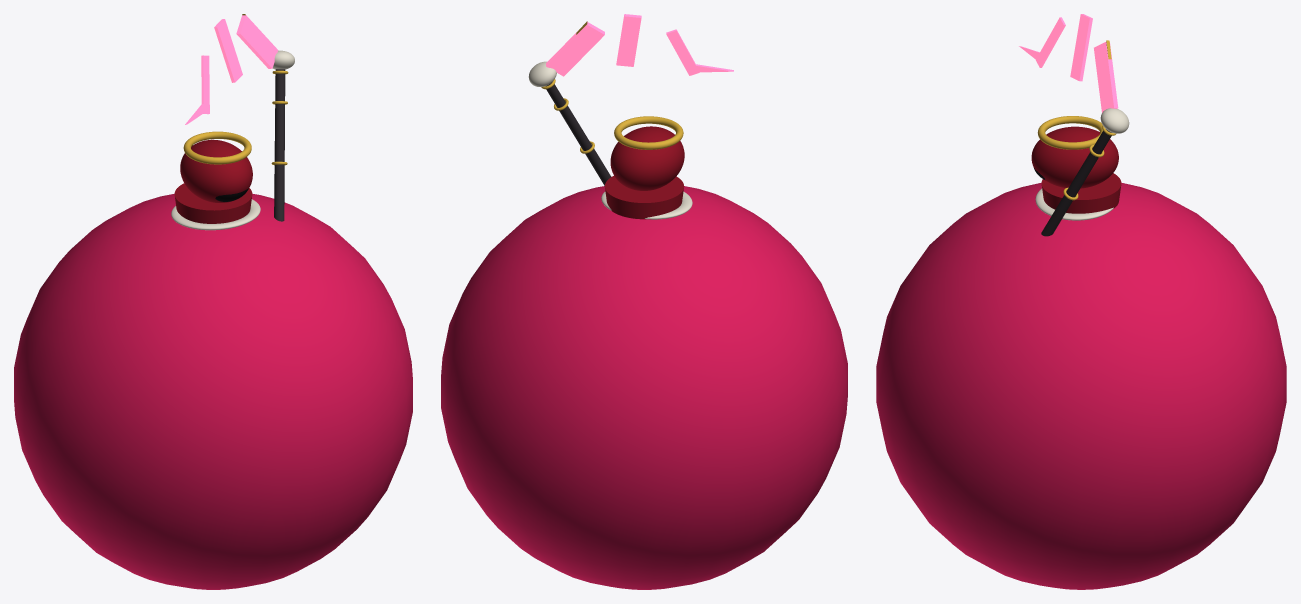
The model's file is jefe_parca_roja.glb.
3 views of the same model, side by side, from view 1: azimuth 30°, elevation 25°; view 2: azimuth 150°, elevation 25°; view 3: azimuth 270°, elevation 25° (orthographic). The views are drawn at different scales.
Parts seen in each view (by area): view 1: BarreraEspectral, _MeshInstance3D_3, _MeshInstance3D_9, _MeshInstance3D_21, _MeshInstance3D_8, _MeshInstance3D_28, _MeshInstance3D_29, _MeshInstance3D_10; view 2: BarreraEspectral, _MeshInstance3D_3, _MeshInstance3D_9, _MeshInstance3D_28, _MeshInstance3D_8, _MeshInstance3D_21, _MeshInstance3D_29, _MeshInstance3D_30; view 3: BarreraEspectral, _MeshInstance3D_3, _MeshInstance3D_9, _MeshInstance3D_21, _MeshInstance3D_28, _MeshInstance3D_8, _MeshInstance3D_29, _MeshInstance3D_27, _MeshInstance3D_10.
Boxes of the visible parts, x1=… form: BarreraEspectral: x1=14, y1=193, x2=412, y2=589; _MeshInstance3D_3: x1=180, y1=139, x2=252, y2=202; _MeshInstance3D_9: x1=174, y1=183, x2=252, y2=223; _MeshInstance3D_21: x1=274, y1=69, x2=285, y2=221; _MeshInstance3D_8: x1=183, y1=131, x2=251, y2=164; _MeshInstance3D_28: x1=236, y1=15, x2=278, y2=68; _MeshInstance3D_29: x1=214, y1=19, x2=242, y2=82; _MeshInstance3D_10: x1=171, y1=199, x2=260, y2=230; BarreraEspectral: x1=441, y1=186, x2=847, y2=589; _MeshInstance3D_3: x1=610, y1=126, x2=684, y2=190; _MeshInstance3D_9: x1=605, y1=176, x2=683, y2=219; _MeshInstance3D_28: x1=546, y1=22, x2=604, y2=76; _MeshInstance3D_8: x1=614, y1=116, x2=683, y2=149; _MeshInstance3D_21: x1=546, y1=82, x2=611, y2=185; _MeshInstance3D_29: x1=616, y1=14, x2=641, y2=66; _MeshInstance3D_30: x1=666, y1=29, x2=699, y2=75; BarreraEspectral: x1=876, y1=182, x2=1286, y2=589; _MeshInstance3D_3: x1=1031, y1=126, x2=1118, y2=188; _MeshInstance3D_9: x1=1041, y1=173, x2=1121, y2=213; _MeshInstance3D_21: x1=1041, y1=129, x2=1111, y2=236; _MeshInstance3D_28: x1=1094, y1=42, x2=1118, y2=112; _MeshInstance3D_8: x1=1037, y1=116, x2=1102, y2=149; _MeshInstance3D_29: x1=1070, y1=14, x2=1092, y2=81; _MeshInstance3D_27: x1=1100, y1=108, x2=1129, y2=133; _MeshInstance3D_10: x1=1035, y1=188, x2=1113, y2=220.
Size of the model in its own units: 3.29 by 4.95 by 3.29.
